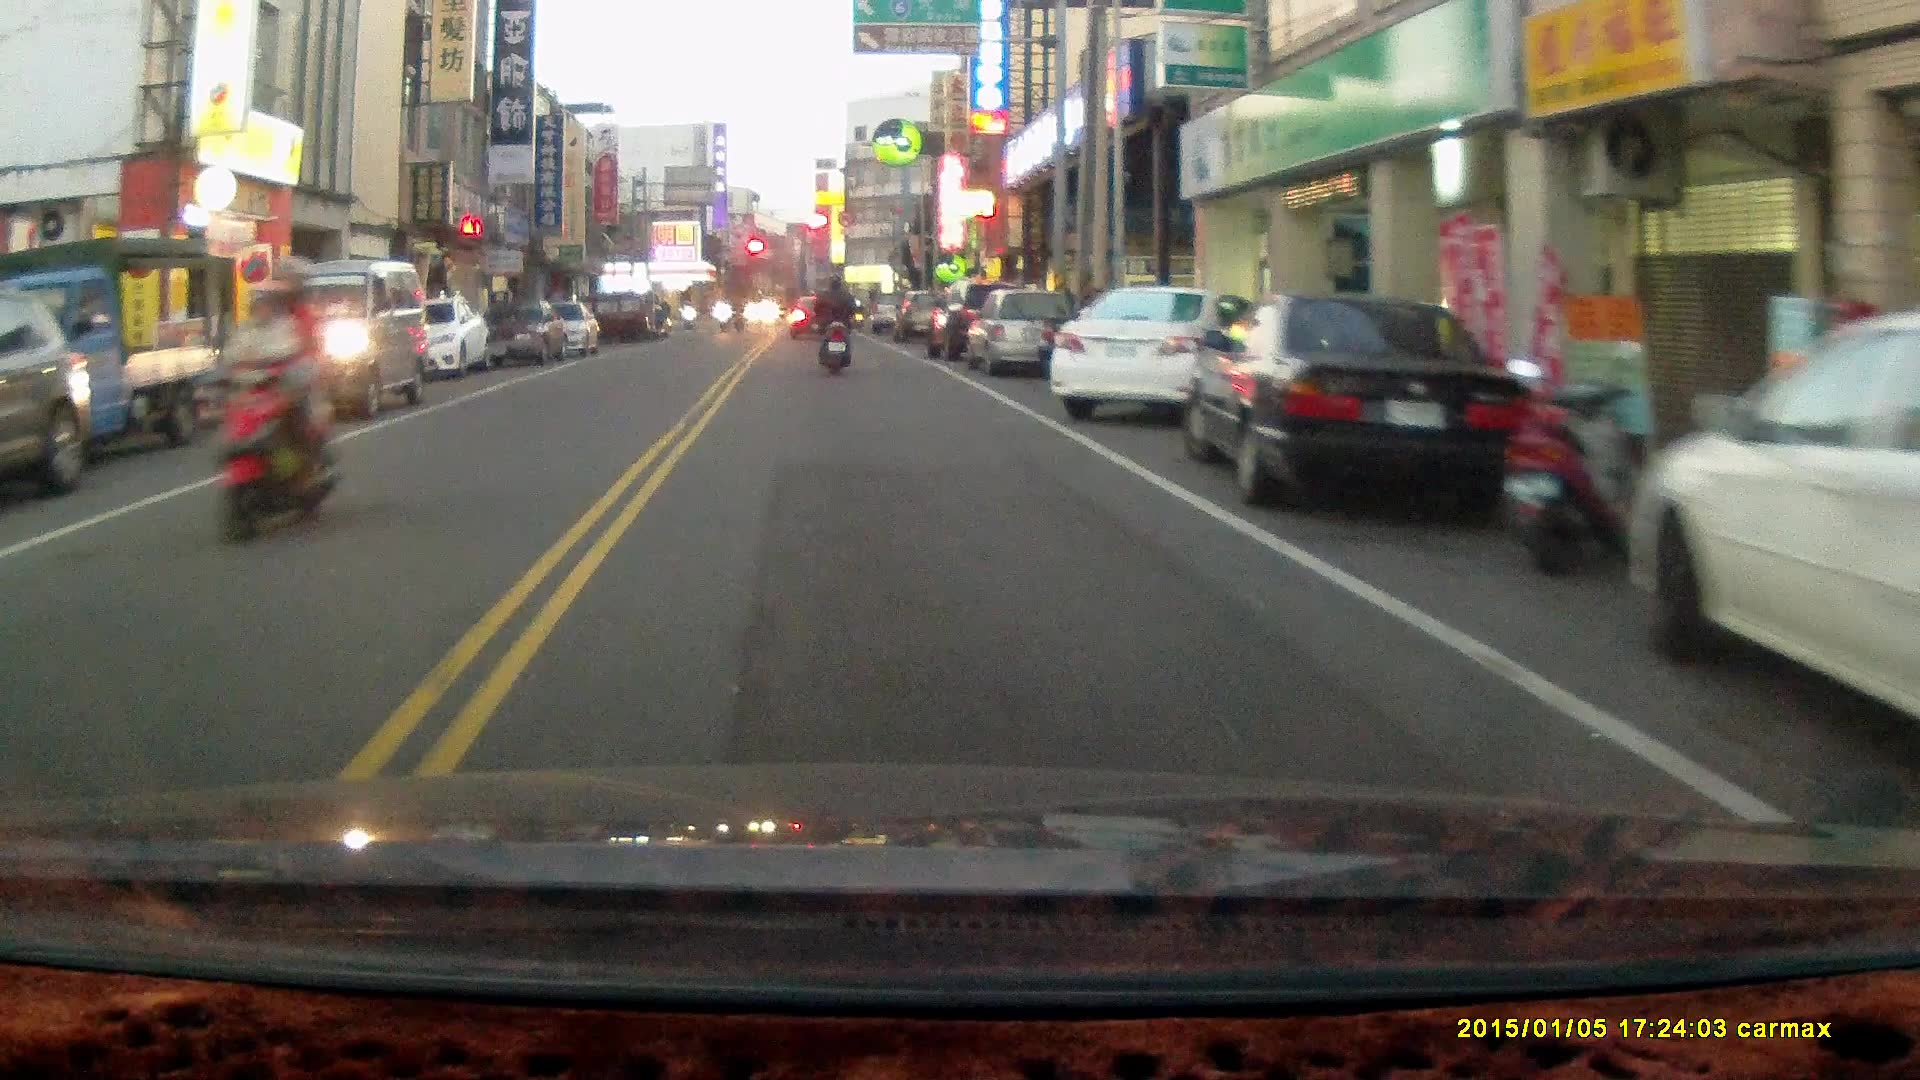rider: (205, 252, 347, 544), (810, 269, 857, 374)
vehicle: (1629, 299, 1920, 796), (1180, 294, 1533, 514), (7, 235, 244, 488), (247, 261, 430, 419), (1048, 283, 1253, 419), (1, 285, 99, 511), (959, 285, 1078, 379), (372, 297, 489, 383)
